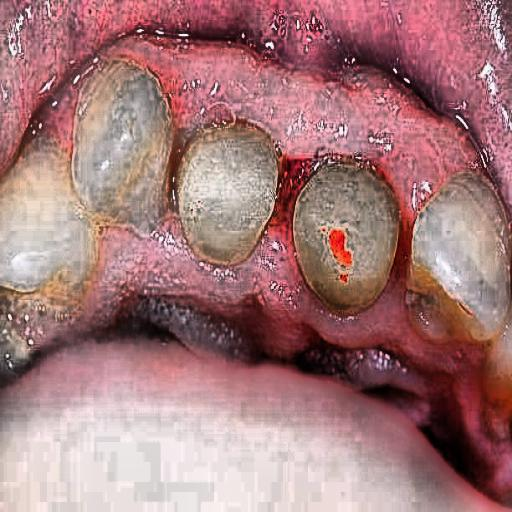Gingivitis: (93, 0, 477, 201), (107, 223, 432, 407)
